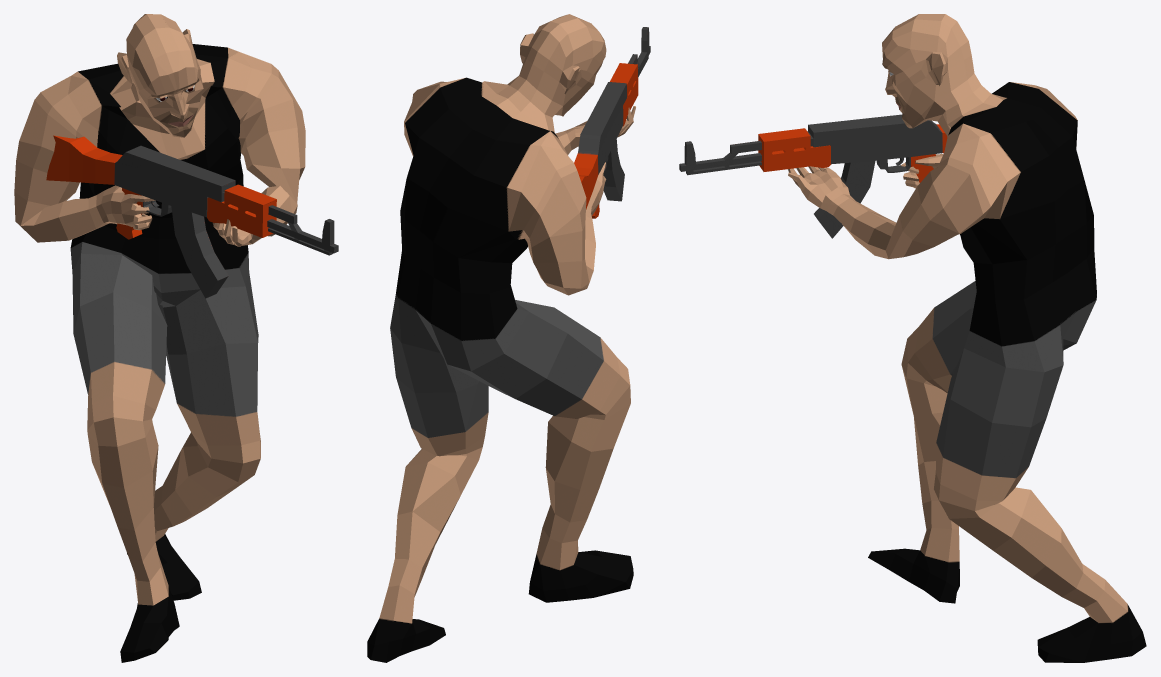
File: PlayerWalk(18).obj
3 views of the same model, side by side, from view 1: azimuth 30°, elevation 25°; view 2: azimuth 150°, elevation 25°; view 3: azimuth 270°, elevation 25° (orthographic). The views are drawn at different scales.
Visible parts, largest first — view 1: Plane002, Object001; view 2: Plane002, Object001; view 3: Plane002, Object001.
Boxes of the visible parts, x1,y1,x2,y2 form: Plane002: [14, 14, 305, 662]; Object001: [46, 135, 338, 298]; Plane002: [367, 14, 635, 662]; Object001: [574, 27, 650, 218]; Plane002: [788, 14, 1146, 662]; Object001: [679, 114, 947, 238].
Size of the model in its own units: 597 by 1573 by 1112.
